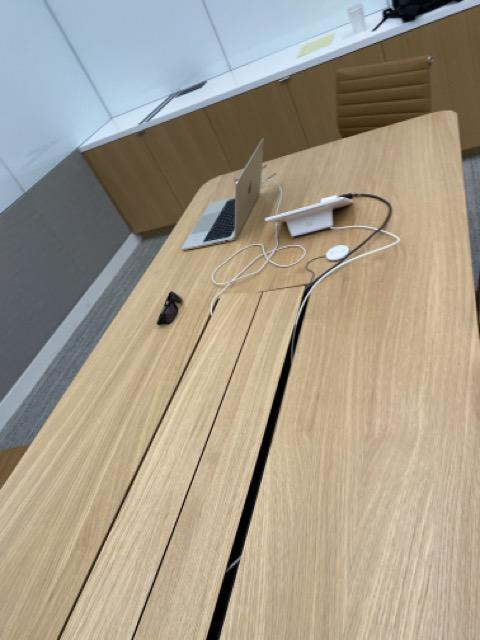Sunglasses: (155, 288, 186, 329)
